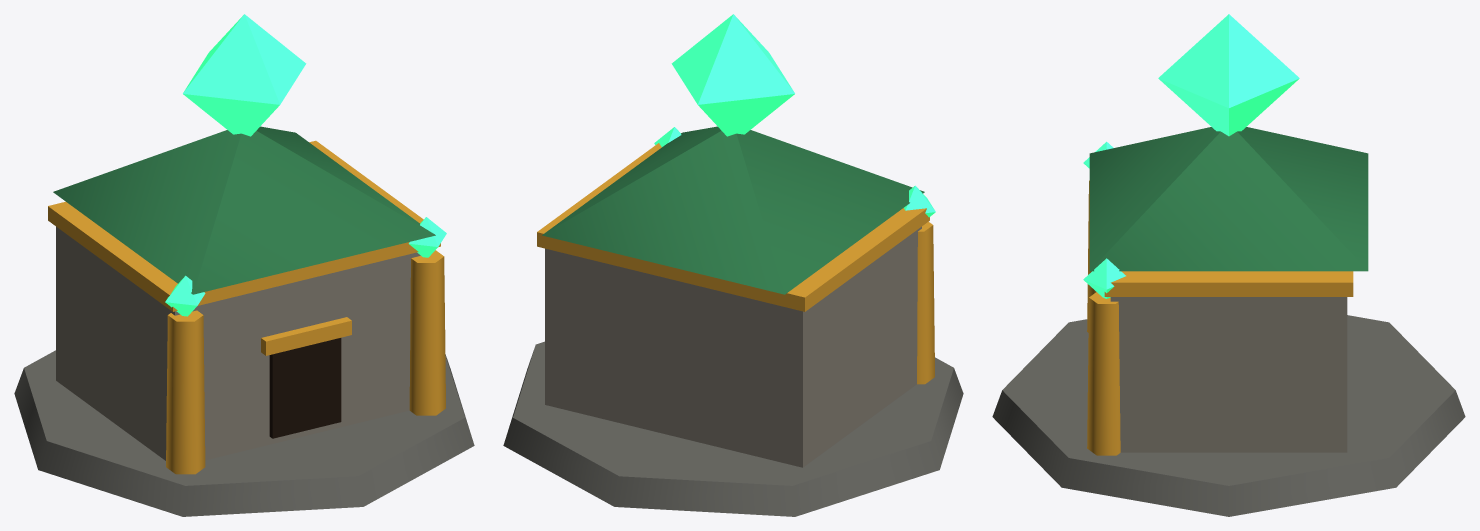
File: level2.glb
The picture shows the model from 3 angles, left to right: view 1: azimuth 30°, elevation 25°; view 2: azimuth 150°, elevation 25°; view 3: azimuth 270°, elevation 25°; orthographic projection.
Bounding box in the file's own units: 2.54 × 2.39 × 2.54.
